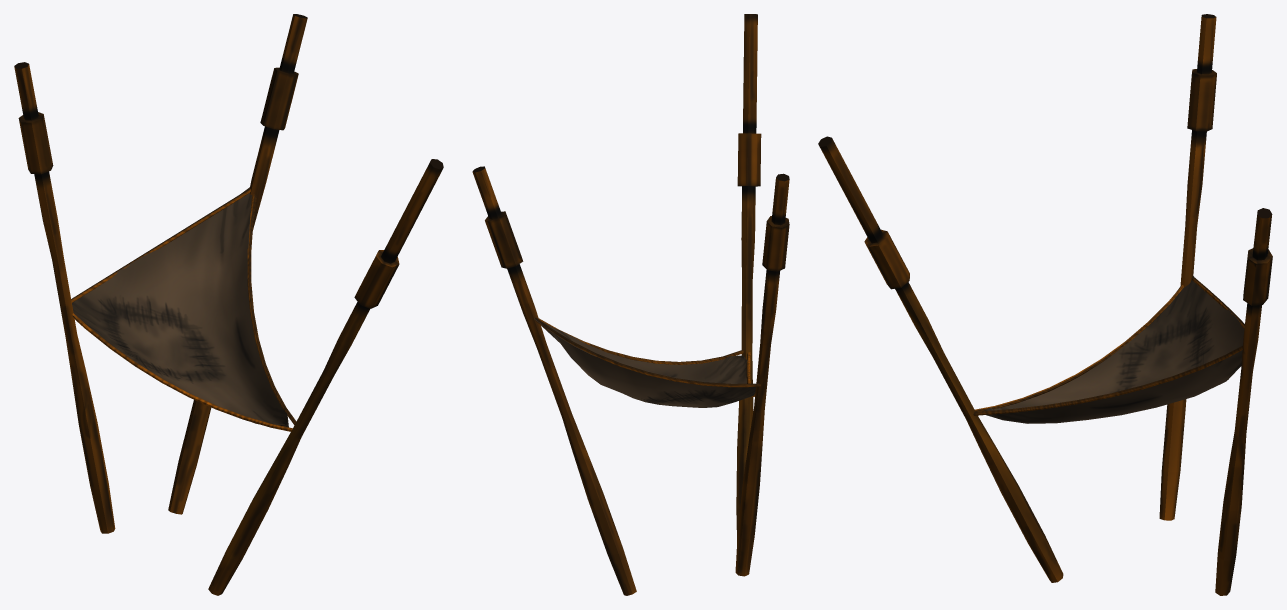
File: ExpeditionCampTent.FBX
3 renders of one model, left to right at view 1: azimuth 30°, elevation 25°; view 2: azimuth 150°, elevation 25°; view 3: azimuth 270°, elevation 25°, orthographic. The views are drawn at different scales.
Parts seen in each view (by area): view 1: camp miningsite001; view 2: camp miningsite001; view 3: camp miningsite001.
Boxes of the visible parts, left/top/right/bottom form: camp miningsite001: left=14, top=14, right=443, bottom=595; camp miningsite001: left=472, top=14, right=789, bottom=595; camp miningsite001: left=818, top=14, right=1272, bottom=595.
Bounding box in the file's own units: 1773 × 2167 × 2667.
